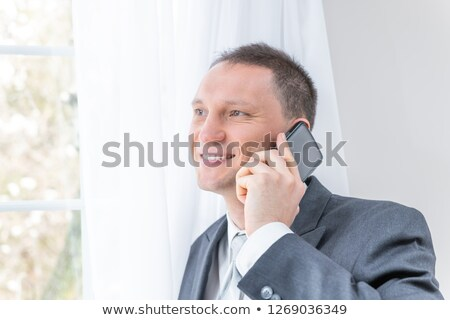phone: (248, 119, 319, 202)
talk: (184, 92, 325, 228)
